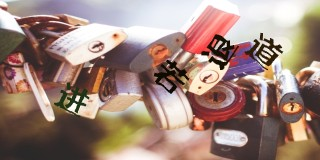若: (153, 60, 189, 94)
进: (54, 81, 89, 117)
退: (201, 34, 239, 70)
道: (245, 32, 283, 70)
